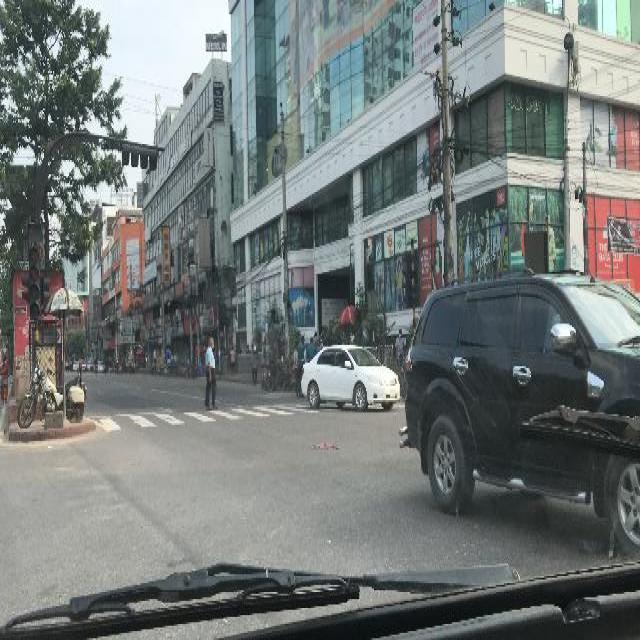bike: (18, 369, 88, 426), (268, 363, 287, 393), (152, 363, 157, 375)
vehicle: (403, 286, 640, 549), (302, 344, 402, 412), (99, 359, 106, 372)
